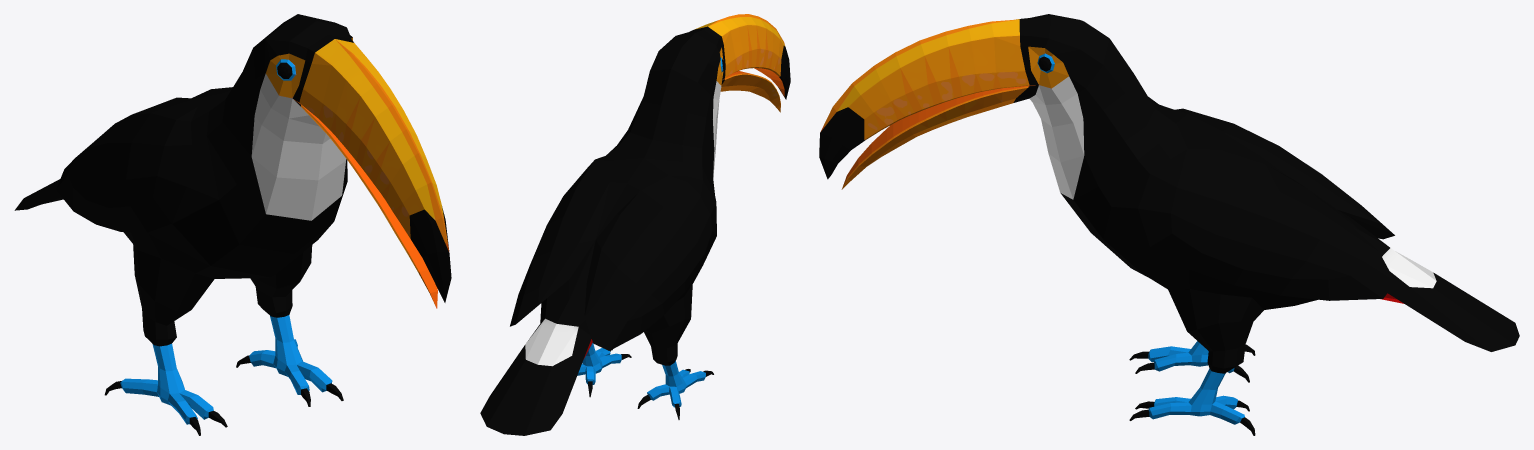
The model's file is TocoToucan.obj.
3 views of the same model, side by side, from view 1: azimuth 30°, elevation 25°; view 2: azimuth 150°, elevation 25°; view 3: azimuth 270°, elevation 25° (orthographic). The views are drawn at different scales.
Parts seen in each view (by area): view 1: TocoToucan; view 2: TocoToucan; view 3: TocoToucan.
Boxes of the visible parts, box(x1,y1,x2,y2) form: TocoToucan: box(14, 14, 451, 435); TocoToucan: box(480, 14, 790, 435); TocoToucan: box(819, 14, 1519, 435).
Bounding box in the file's own units: 0.1815 × 0.3802 × 0.6334.
Materials: 1 (1 with a texture image).
